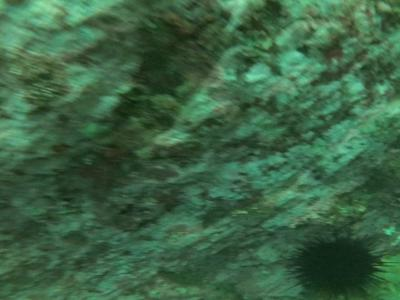urchin: (283, 229, 386, 294)
